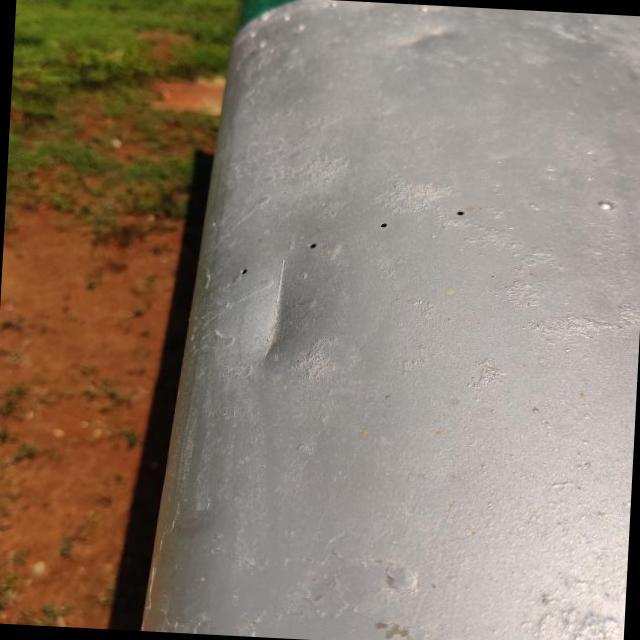Dent: (210, 229, 342, 391), (371, 2, 484, 88)
